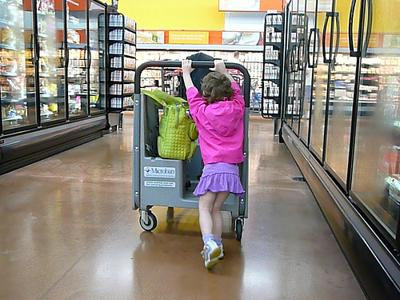person: (182, 56, 249, 271)
